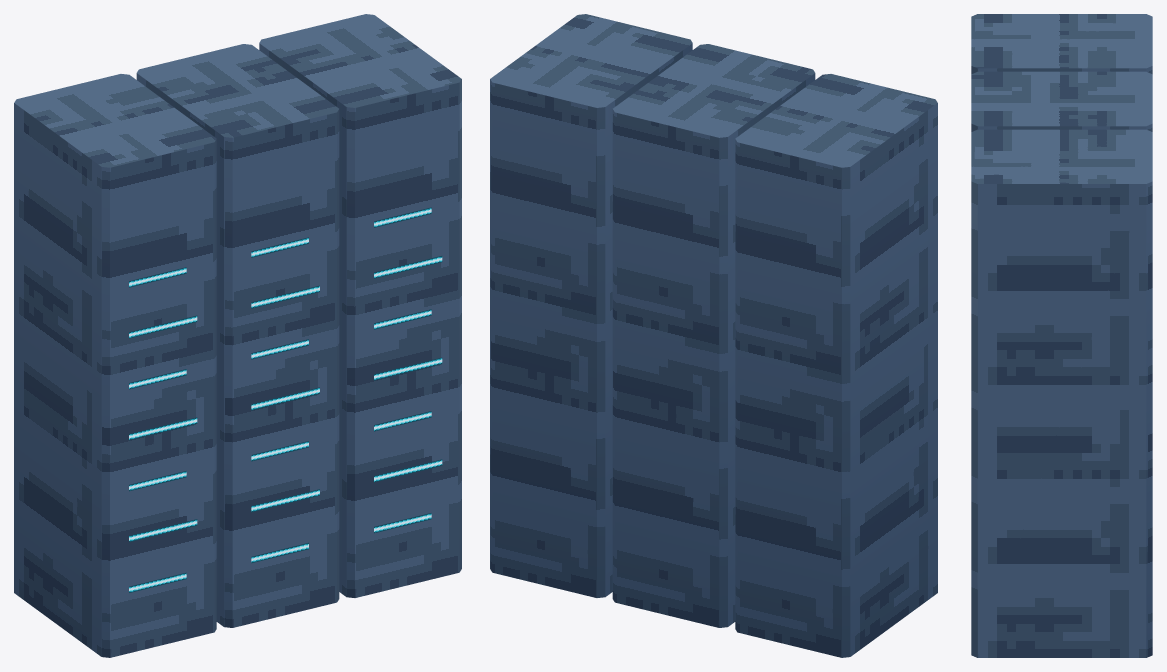
Rendered from cytech.rack__tall.glb.
3 views of the same model, side by side, from view 1: azimuth 30°, elevation 25°; view 2: azimuth 150°, elevation 25°; view 3: azimuth 270°, elevation 25° (orthographic). The views are drawn at different scales.
Parts seen in each view (by area): view 1: kit_cabinets, kit_card_lights; view 2: kit_cabinets; view 3: kit_cabinets.
Boxes of the visible parts, x1,y1,x2,y2 form: kit_cabinets: [14, 14, 461, 657]; kit_card_lights: [129, 207, 442, 592]; kit_cabinets: [490, 14, 937, 657]; kit_cabinets: [971, 14, 1152, 657].
Bounding box in the file's own units: 2 × 2.6 × 0.925.
Materials: 2 (2 with a texture image).
